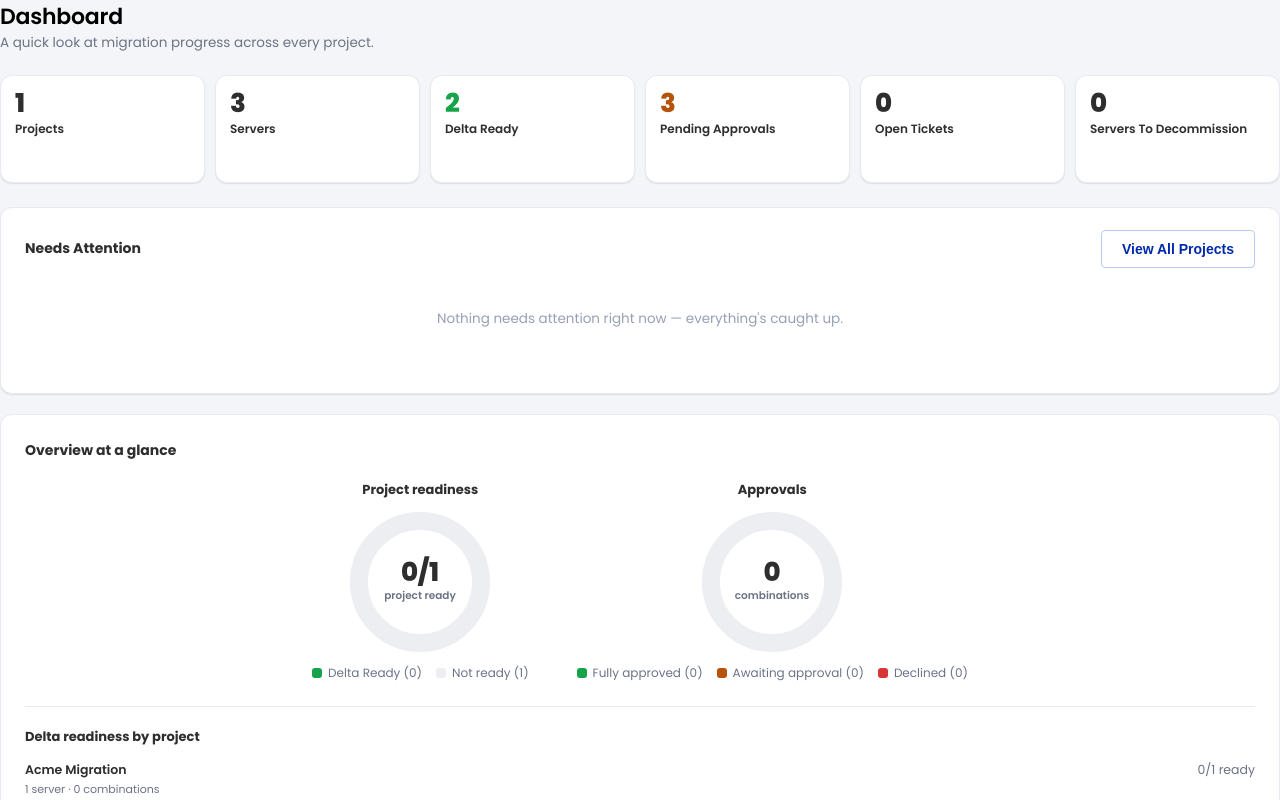
Test: Dashboard server popups › the tile's number matches the number of rows its popup lists
Expected: the heading "Dashboard" is shown, [0,1,123,32]
Expected: the button "3 Servers" is shown, [215,75,420,183]
Click the button "2 Delta Ready" at (532, 129), box [430,75,635,183]
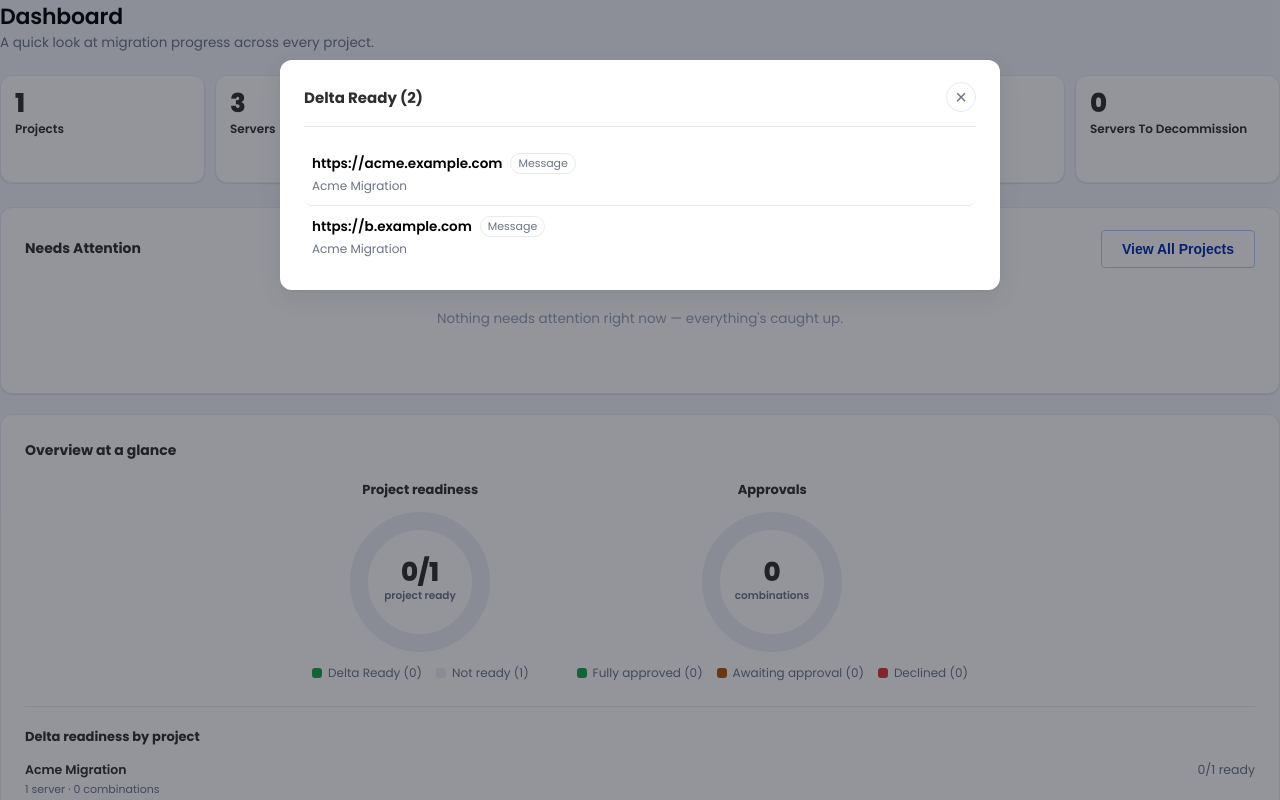
Now the number of buttons "https://acme.example.com Message Acme Migration" is 2, box [304,143,976,206]; [304,206,976,268]
